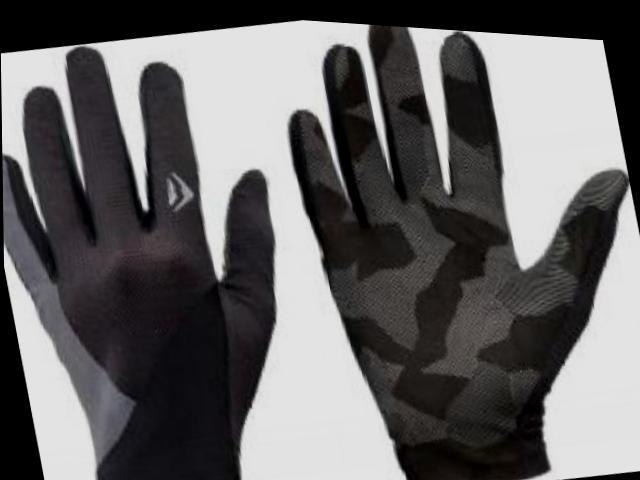Hand-in-Glove: (245, 13, 640, 480), (1, 10, 332, 480)
